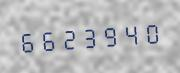four: (122, 17, 142, 49)
nine: (101, 19, 121, 50)
six: (38, 23, 58, 55), (17, 25, 37, 56)
three: (80, 20, 100, 52)
two: (59, 22, 79, 53)
zero: (143, 16, 163, 47)
